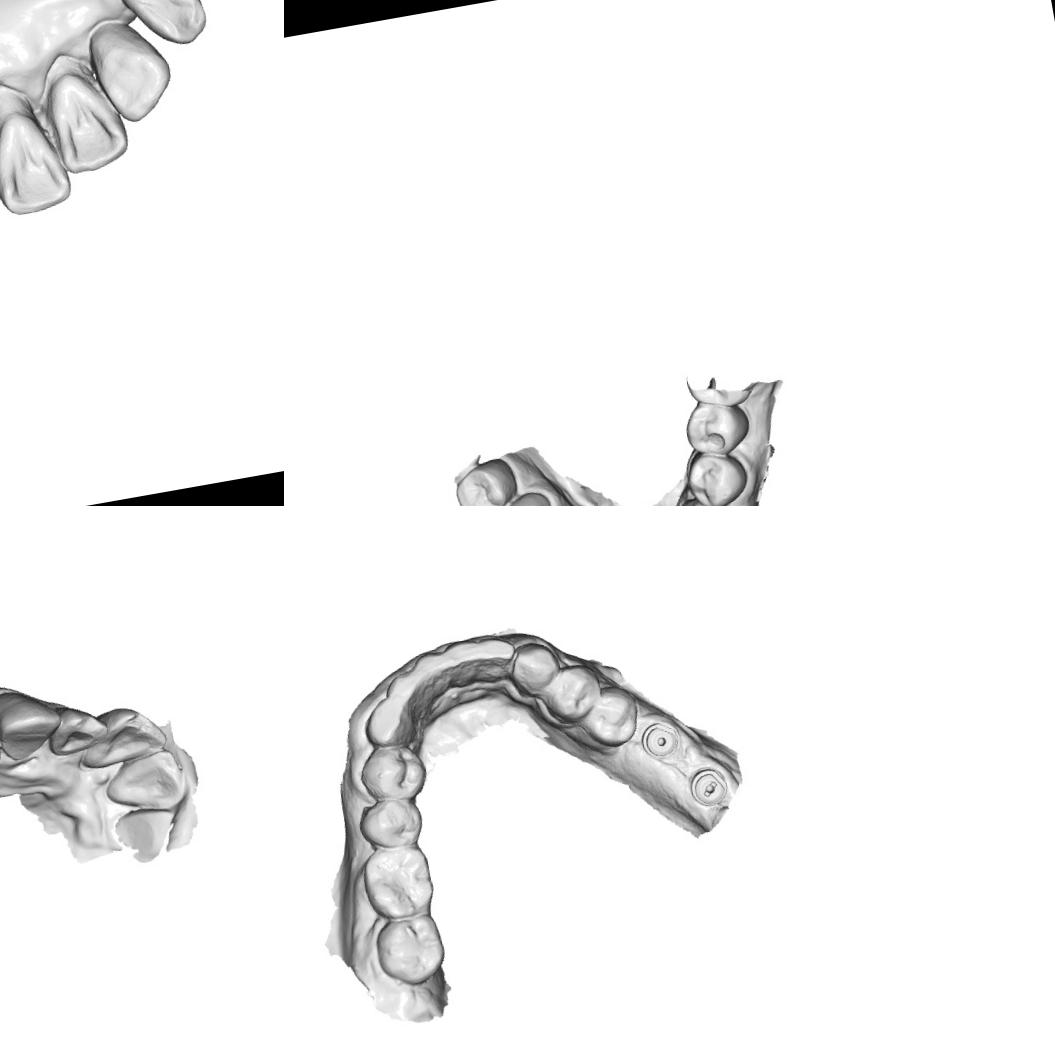canine: (0, 681, 67, 765), (116, 0, 210, 56), (505, 638, 563, 694), (359, 693, 414, 751), (675, 491, 736, 506)
implant: (635, 714, 685, 766)
implant_minus: (683, 763, 736, 812)
incisor: (45, 64, 136, 176), (87, 20, 178, 126), (0, 104, 75, 218), (72, 698, 172, 773), (97, 746, 189, 820), (42, 700, 112, 759), (474, 630, 520, 684), (382, 666, 426, 718), (443, 636, 484, 688), (416, 648, 452, 698)
molar: (357, 842, 438, 925), (370, 911, 450, 990)
premolar: (681, 395, 754, 460), (355, 739, 430, 802), (354, 792, 427, 856), (578, 681, 644, 751), (541, 661, 605, 728), (682, 445, 751, 506), (449, 455, 523, 506)
